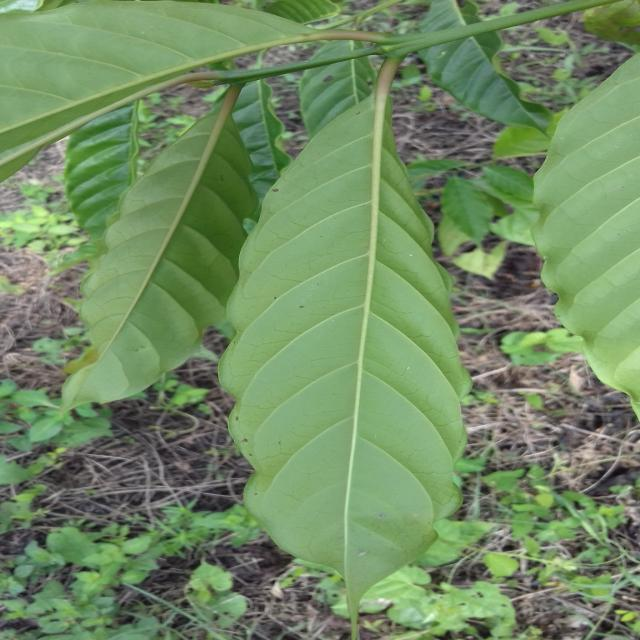Sanas: (218, 64, 470, 621)
